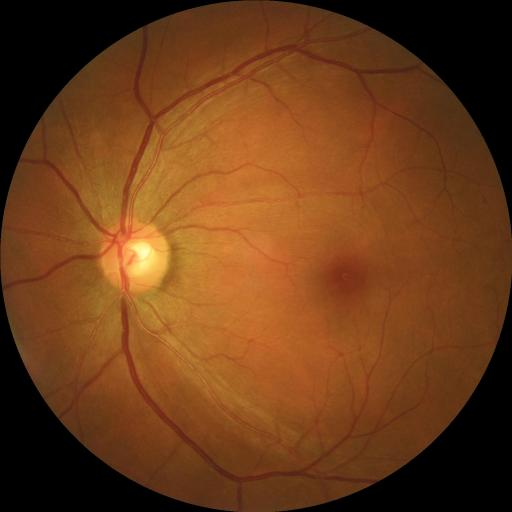Optic Cup: (122, 242, 155, 278)
Optic Disc: (97, 221, 169, 293)
